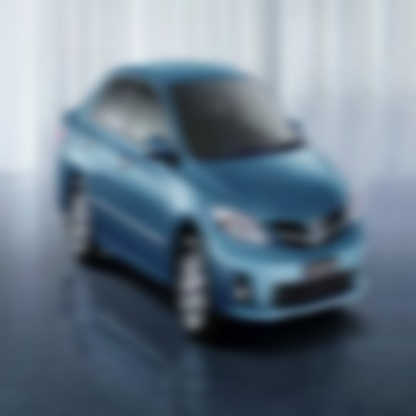Vehicle: (53, 50, 370, 357)
